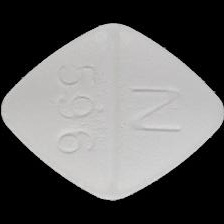50436-6312: (0, 0, 224, 224)
